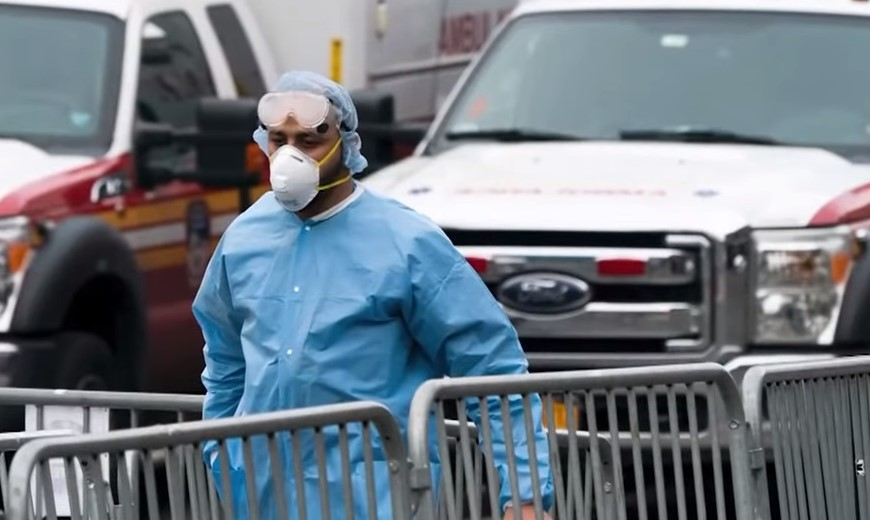face_with_mask: (257, 70, 368, 209)
